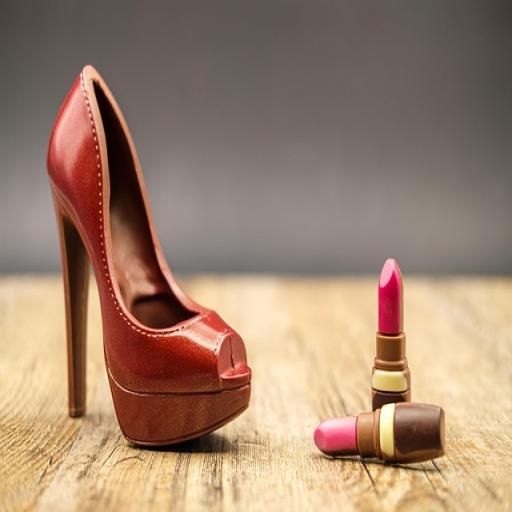lipstick: (314, 403, 444, 462), (372, 258, 411, 410)
